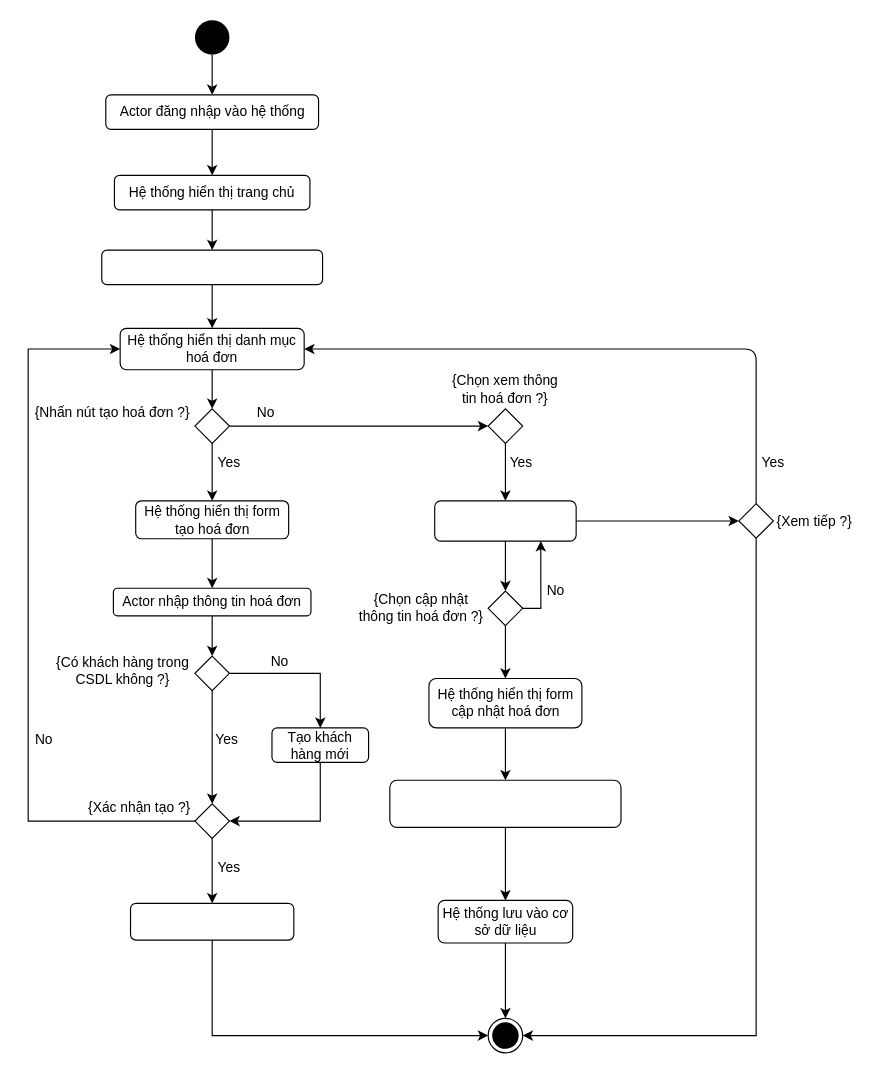
Image size: 876x1073. Some labels were removed from this diagram. The shapes that lost their labels are listed below. From the top down, each one's box as (x1, y1, x2, y2) in pixels, then its label:
(101, 249, 323, 285): Actor chọn chức năng bán hàng
(434, 500, 576, 541): Hệ thống hiển thị cửa sổ chi tiết hoá đơn
(389, 779, 621, 827): Actor nhập thông tin cần cập nhật và bấm nút cập nhật
(129, 902, 294, 940): Hệ thống lưu vào cơ sở dữ liệu và in hoá đơn
